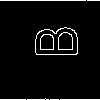B: (24, 24, 78, 58)
